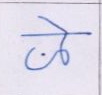o_matra: (54, 17, 71, 65)
